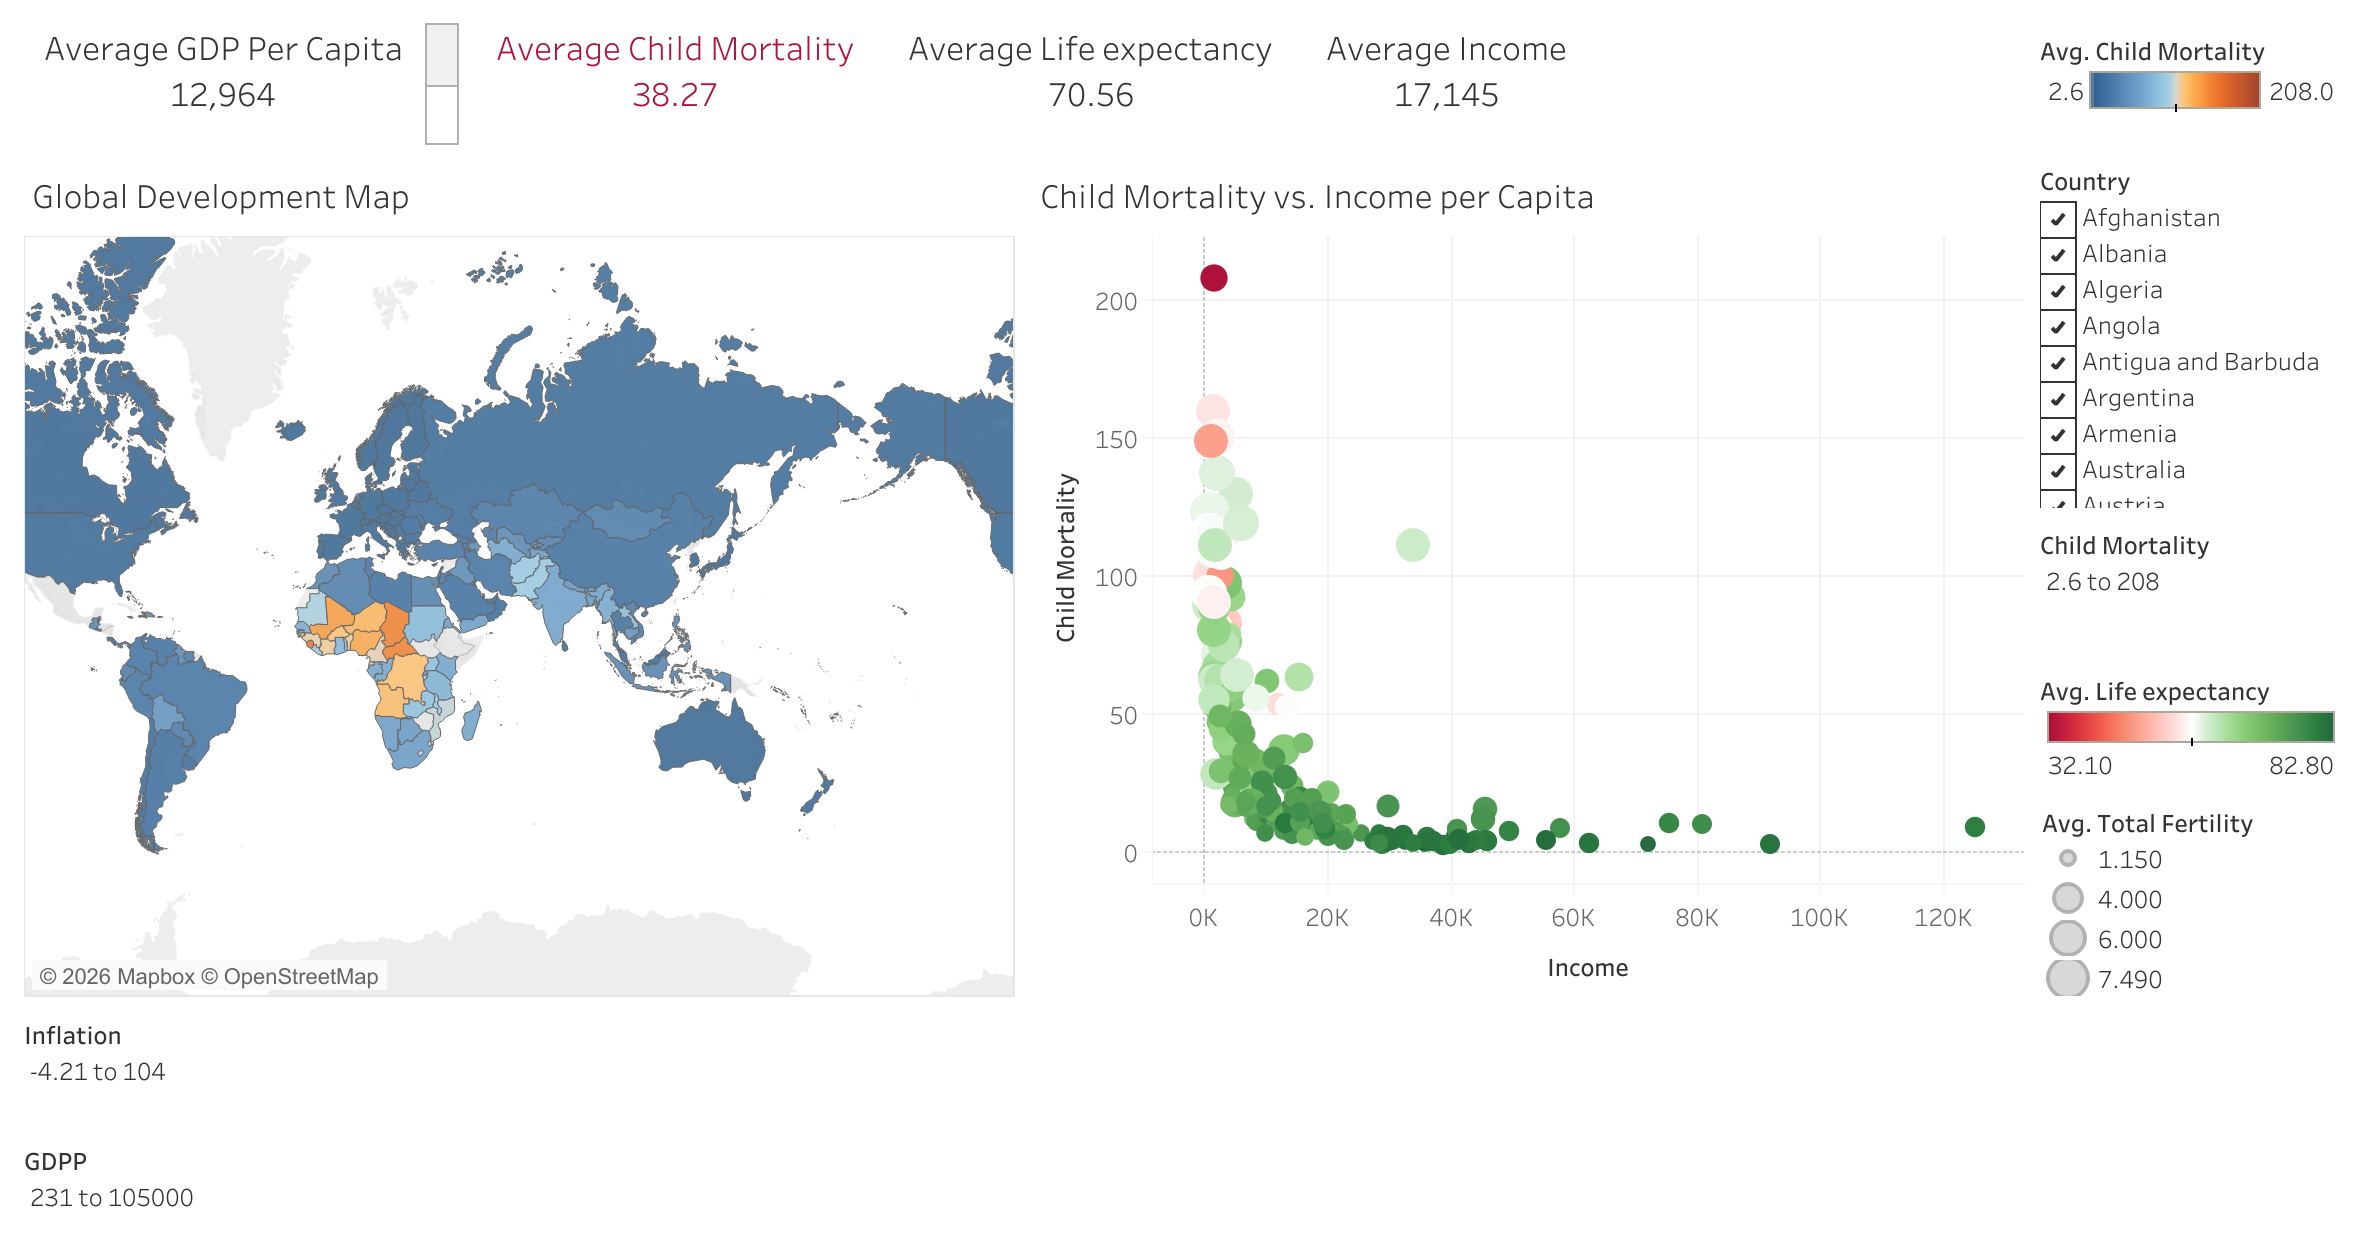

The page's visual inventory and layout, read from the dashboard file:
{"tool":"tableau","page":{"name":"Dashboard 1: Executive Overview & Country Needs Assessment","canvas":[1000,1000],"units":"permille","ordinal":0},"visuals":[{"type":"worksheet","title":"KPI: Average GDP per Capita","mark":"Text","box":[6.8,12.8,190.9,109.1]},{"type":"worksheet","title":"KPI: Average Child Mortality Rate","mark":"Automatic","box":[197.6,12.8,175.7,109.1]},{"type":"worksheet","title":"KPI: Average Life Expectancy","mark":"Automatic","box":[373.3,12.8,175.7,109.1]},{"type":"worksheet","title":"KPI: Average Net Income","mark":"Automatic","box":[549,12.8,125,109.1]},{"type":"legend","title":"Global Development Map","param":"[federated.08tkc1t1d7iy211azh43v0snrct7].[avg:F2:qk]","box":[858.1,12.8,135.1,109.2]},{"type":"worksheet","title":"Global Development Map","mark":"Multipolygon","box":[6.8,122,425.6,685.4]},{"type":"worksheet","title":"Child Mortality vs. Income per Capita","mark":"Circle","rows":["F2"],"cols":["F6"],"box":[432.4,122,425.7,685.4]},{"type":"filter","title":"Child Mortality vs. Income per Capita","param":"[federated.08tkc1t1d7iy211azh43v0snrct7].[none:F1:nk]","box":[858.1,122,135.1,292.1]},{"type":"filter","title":"Child Mortality vs. Income per Capita","param":"[federated.08tkc1t1d7iy211azh43v0snrct7].[sum:F2:qk]","box":[858.1,414.1,135.1,112.4]},{"type":"legend","title":"Child Mortality vs. Income per Capita","param":"[federated.08tkc1t1d7iy211azh43v0snrct7].[avg:F8:qk]","box":[858.1,526.4,135.1,109.2]},{"type":"legend","title":"Child Mortality vs. Income per Capita","param":"[federated.08tkc1t1d7iy211azh43v0snrct7].[avg:F9:qk]","box":[858.1,635.6,135.1,171.8]},{"type":"filter","title":"Global Development Map","param":"[federated.08tkc1t1d7iy211azh43v0snrct7].[none:F7:qk]","box":[6.8,807.3,986.5,101.1]},{"type":"filter","title":"Global Development Map","param":"[federated.08tkc1t1d7iy211azh43v0snrct7].[none:F10:qk]","box":[6.8,908.5,986.5,78.7]}]}

Visuals, with their boxes on the dashboard's canvas, which has no fixed pixel size, in thousandths of its width and height (x1, y1, x2, y2). These are canvas units, not pixel positions in the 2368x1246 screenshot, which may show the page scaled, cropped or inside an application window:
"KPI: Average GDP per Capita" worksheet (Text marks): [left=7, top=13, right=198, bottom=122]
"KPI: Average Child Mortality Rate" worksheet: [left=198, top=13, right=373, bottom=122]
"KPI: Average Life Expectancy" worksheet: [left=373, top=13, right=549, bottom=122]
"KPI: Average Net Income" worksheet: [left=549, top=13, right=674, bottom=122]
"Global Development Map" legend: [left=858, top=13, right=993, bottom=122]
"Global Development Map" worksheet (Multipolygon marks): [left=7, top=122, right=432, bottom=807]
"Child Mortality vs. Income per Capita" worksheet (Circle marks): [left=432, top=122, right=858, bottom=807]
"Child Mortality vs. Income per Capita" filter: [left=858, top=122, right=993, bottom=414]
"Child Mortality vs. Income per Capita" filter: [left=858, top=414, right=993, bottom=526]
"Child Mortality vs. Income per Capita" legend: [left=858, top=526, right=993, bottom=636]
"Child Mortality vs. Income per Capita" legend: [left=858, top=636, right=993, bottom=807]
"Global Development Map" filter: [left=7, top=807, right=993, bottom=908]
"Global Development Map" filter: [left=7, top=908, right=993, bottom=987]
